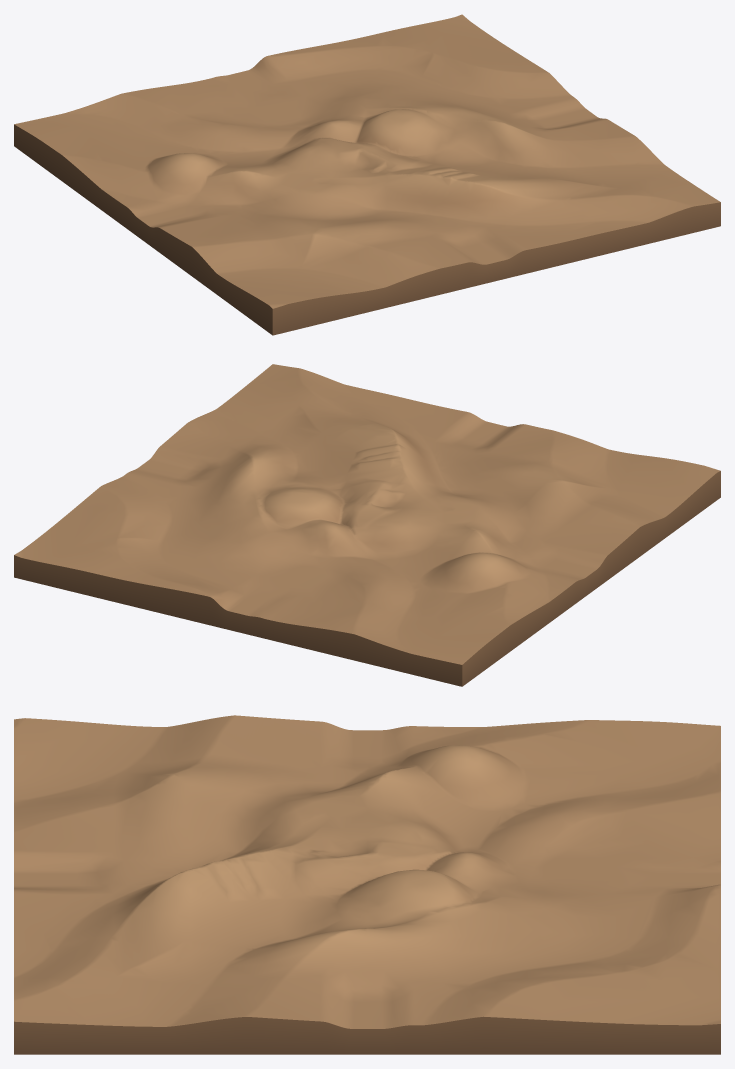
The model's file is near.glb.
3 views of the same model, one above another, from view 1: azimuth 30°, elevation 25°; view 2: azimuth 150°, elevation 25°; view 3: azimuth 270°, elevation 25° (orthographic). The views are drawn at different scales.
Parts seen in each view (by area): view 1: near-placeholder; view 2: near-placeholder; view 3: near-placeholder.
Part boxes in pixels (x1=…): near-placeholder: x1=14, y1=14, x2=720, y2=335; near-placeholder: x1=14, y1=364, x2=720, y2=686; near-placeholder: x1=14, y1=715, x2=720, y2=1054.
Size of the model in its own units: 500 by 46.87 by 500.
